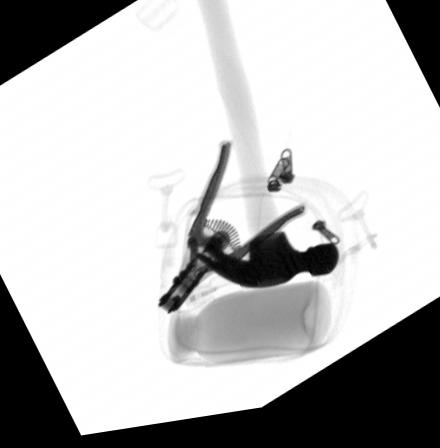Hammer: (193, 0, 340, 296)
Pliers: (155, 144, 308, 322)
